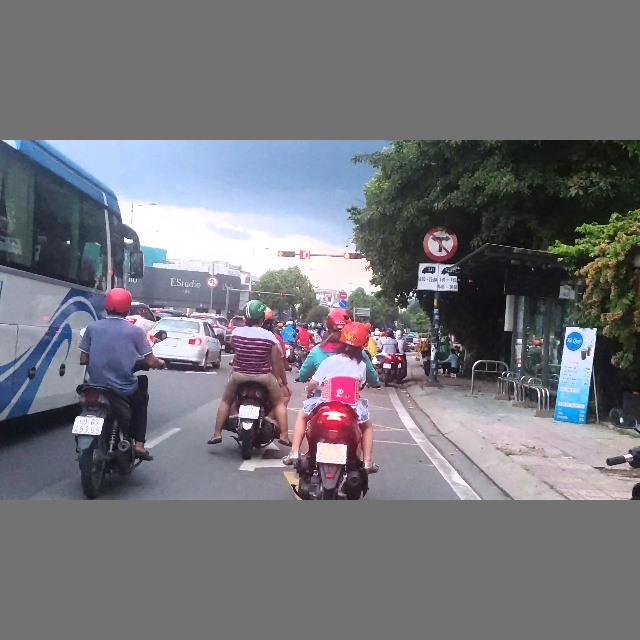P.102: (339, 291, 348, 299)
P.124a*: (206, 276, 218, 288)
P.137: (422, 226, 458, 262)
R.302a: (339, 300, 347, 308)
S.505a*Xe tai: (416, 262, 459, 292)
